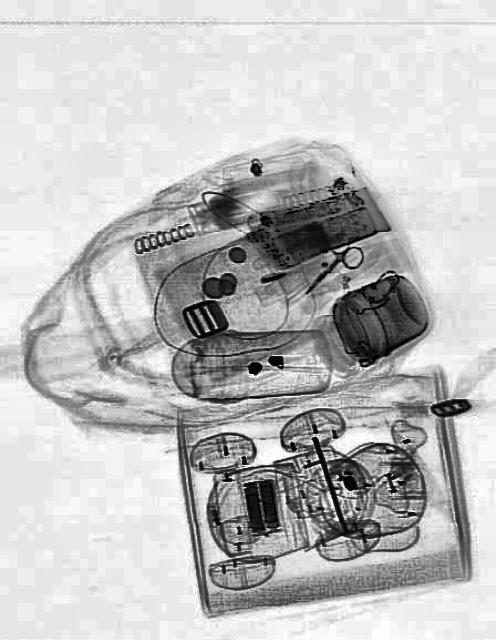Scissors: (292, 224, 367, 306)
